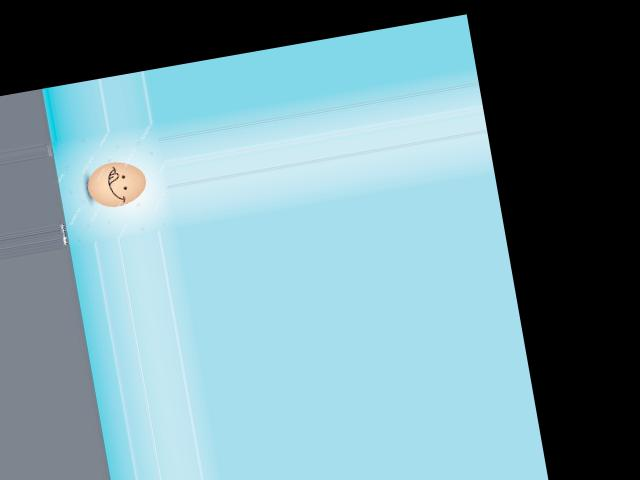egg: (84, 156, 149, 210)
